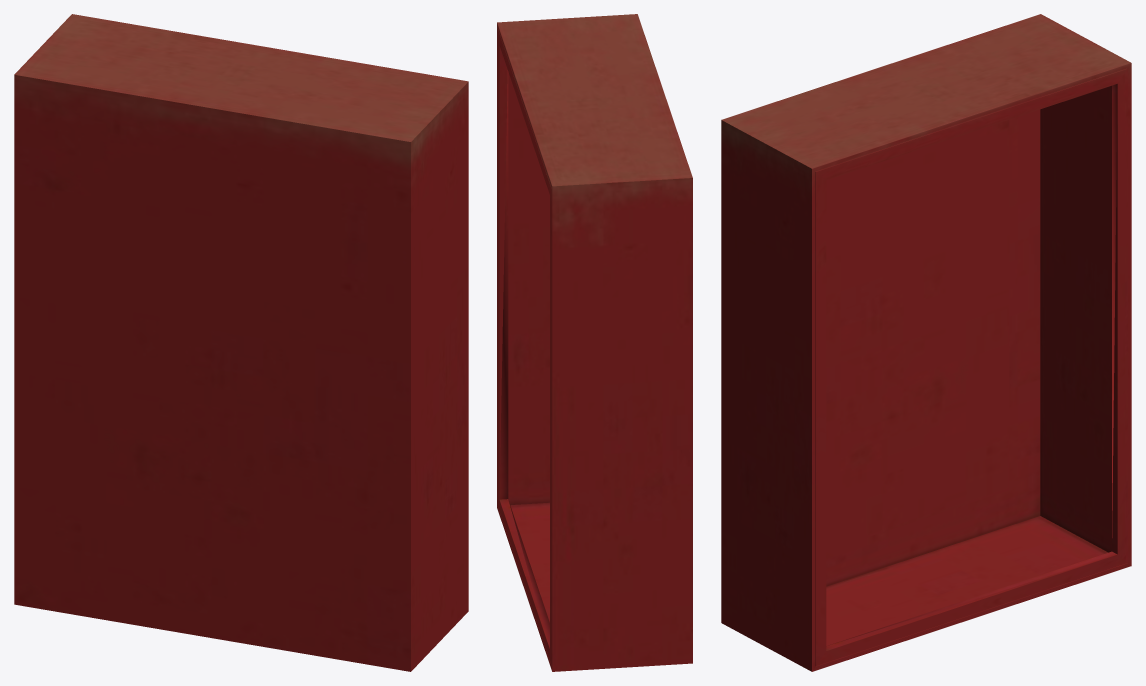
File: CajaExtintor.fbx
The picture shows the model from 3 angles, left to right: view 1: azimuth 30°, elevation 25°; view 2: azimuth 150°, elevation 25°; view 3: azimuth 270°, elevation 25°; orthographic projection. The views are drawn at different scales.
Parts seen in each view (by area): view 1: CajaExtintor; view 2: CajaExtintor; view 3: CajaExtintor.
Part boxes in pixels (<box>): CajaExtintor: <box>14,14,468,671</box>; CajaExtintor: <box>497,14,692,671</box>; CajaExtintor: <box>721,14,1131,671</box>.
Size of the model in its own units: 48.05 by 72.81 by 53.82.
Materials: 1 (1 with a texture image).
